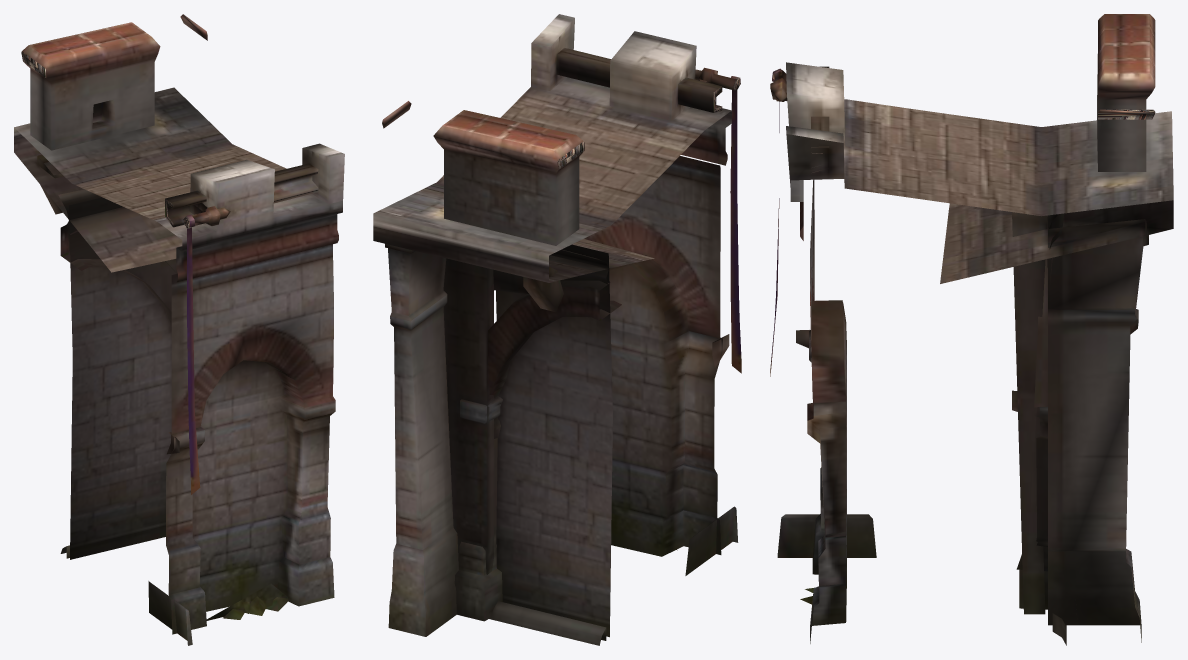
Rendered from WallRunRight_09.fbx.
The picture shows the model from 3 angles, left to right: view 1: azimuth 30°, elevation 25°; view 2: azimuth 150°, elevation 25°; view 3: azimuth 270°, elevation 25°; orthographic projection. The views are drawn at different scales.
Visible parts, largest first — view 1: Imported wall section.070; view 2: Imported wall section.070; view 3: Imported wall section.070.
Boxes of the visible parts, x1,y1,x2,y2 form: Imported wall section.070: (14,14,344,645); Imported wall section.070: (373,14,741,645); Imported wall section.070: (770,14,1173,645).
Size of the model in its own units: 200 by 574 by 383.
Materials: 1 (1 with a texture image).
